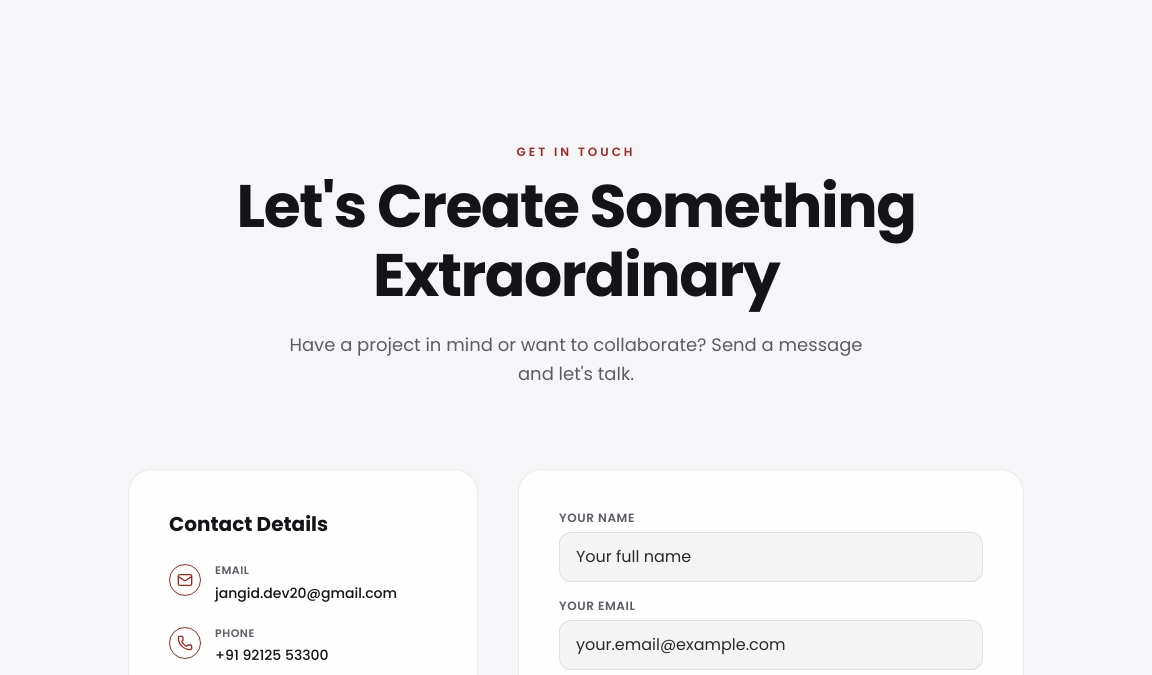
Test case: Contact Section & Formspree Integration › validates email format and message minimum length
In the field labelled "Your Name": (771,556) [559,532,983,582], type "Dev Tester"
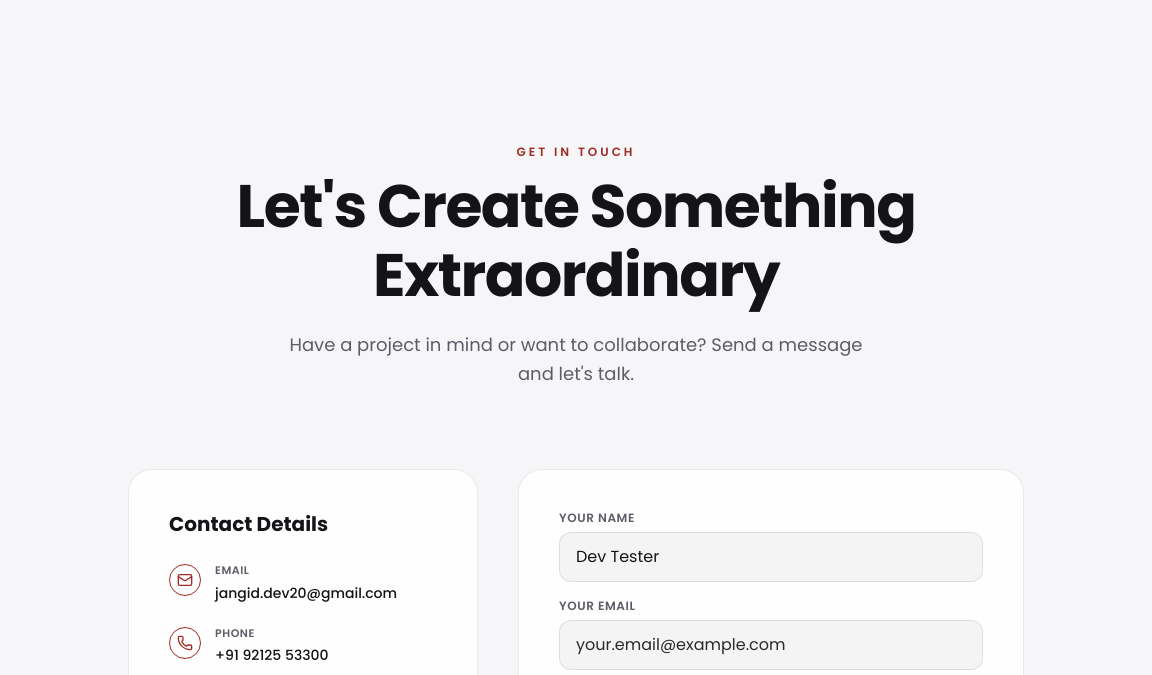
In the field labelled "Your Email": (771,644) [559,620,983,670], type "invalid-email-address"
(page scrolled)
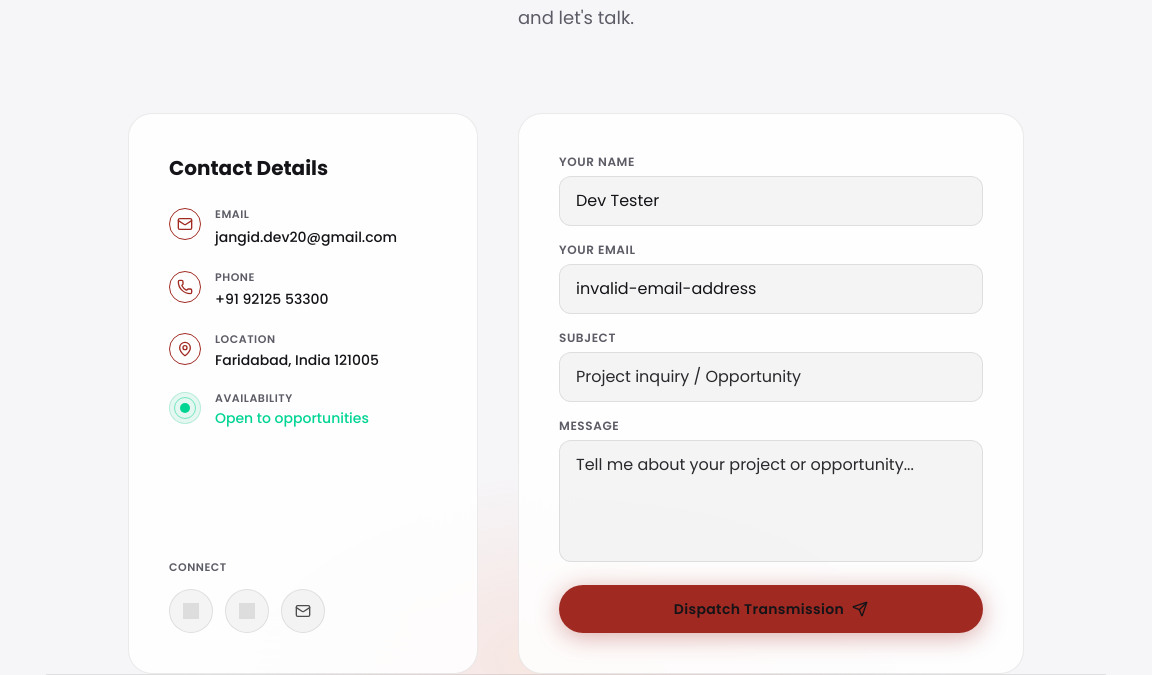
In the field labelled "Subject": (771,376) [559,352,983,402], type "Inquiry"
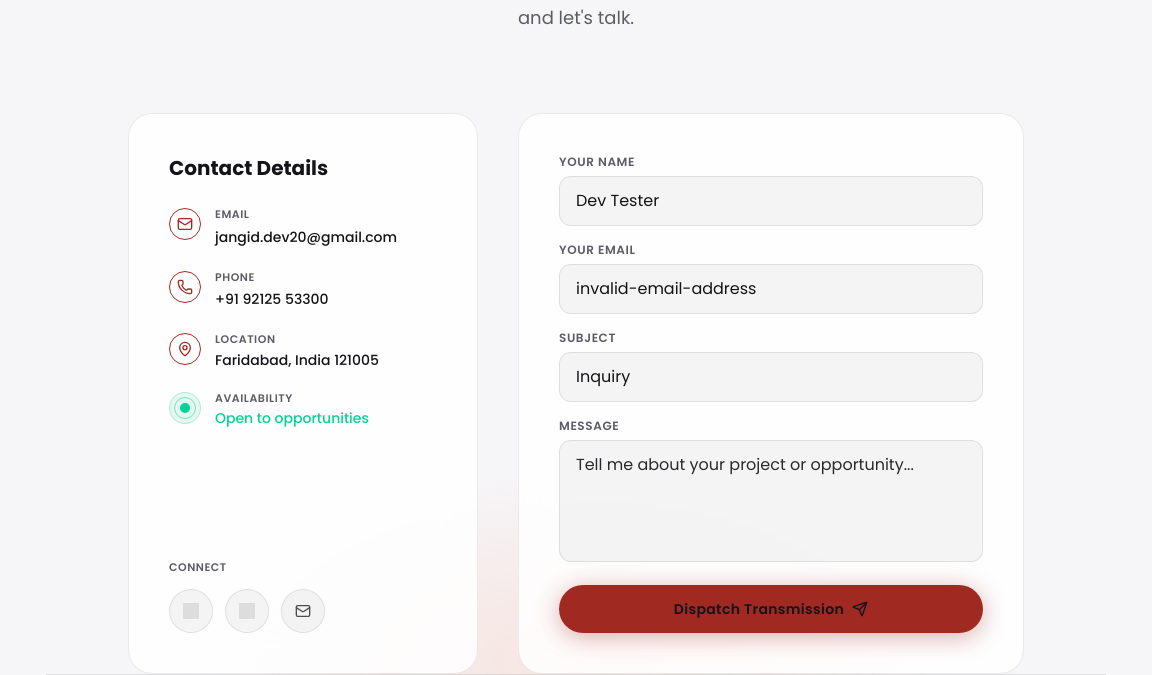
In the text box labelled "Message": (771,500) [559,440,983,562], type "Short msg"
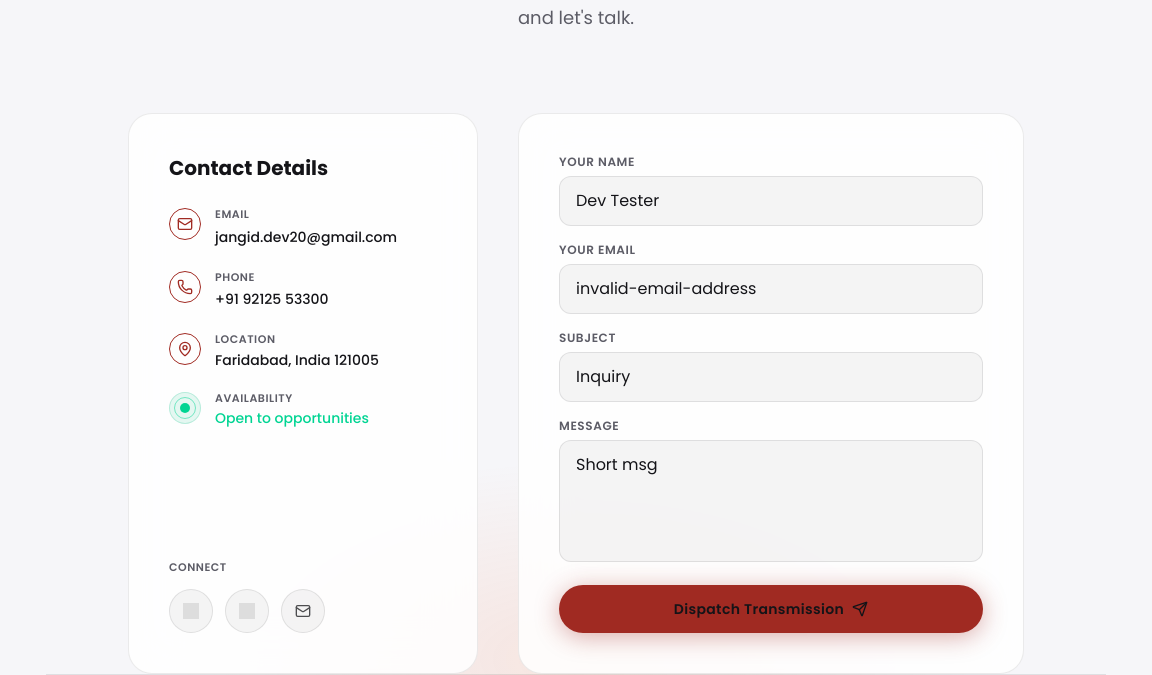
Click the button "Dispatch Transmission": (771,608) [559,584,983,632]
(page scrolled)
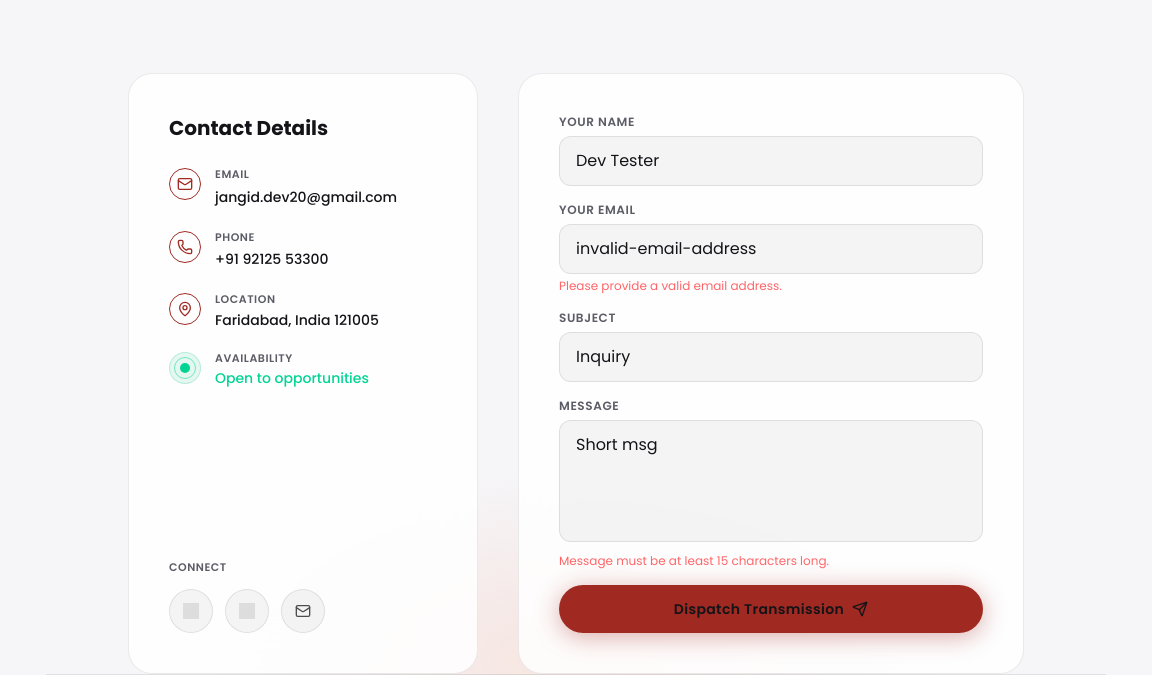
Result: the text "Please provide a valid email address." is shown at [559,276,782,294]
Result: the text "Message must be at least 15 characters long." is shown at [559,552,829,568]
